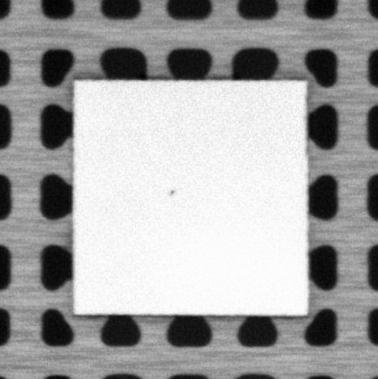DIE_INK: (167, 186, 176, 196)
